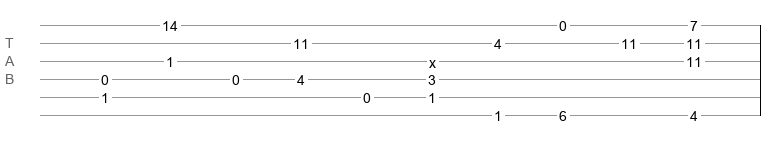0: (101, 72, 109, 82), (232, 72, 240, 82), (363, 90, 371, 100), (559, 18, 567, 28)
1: (101, 90, 109, 100), (166, 54, 174, 64), (428, 90, 436, 100), (494, 108, 502, 118)
11: (293, 36, 309, 46), (621, 36, 637, 46), (686, 54, 702, 64), (686, 36, 702, 46)
14: (162, 18, 178, 28)
3: (428, 72, 436, 82)
4: (297, 72, 305, 82), (494, 36, 502, 46), (690, 108, 698, 118)
6: (559, 108, 567, 118)
7: (690, 18, 698, 28)
x: (429, 55, 436, 63)
